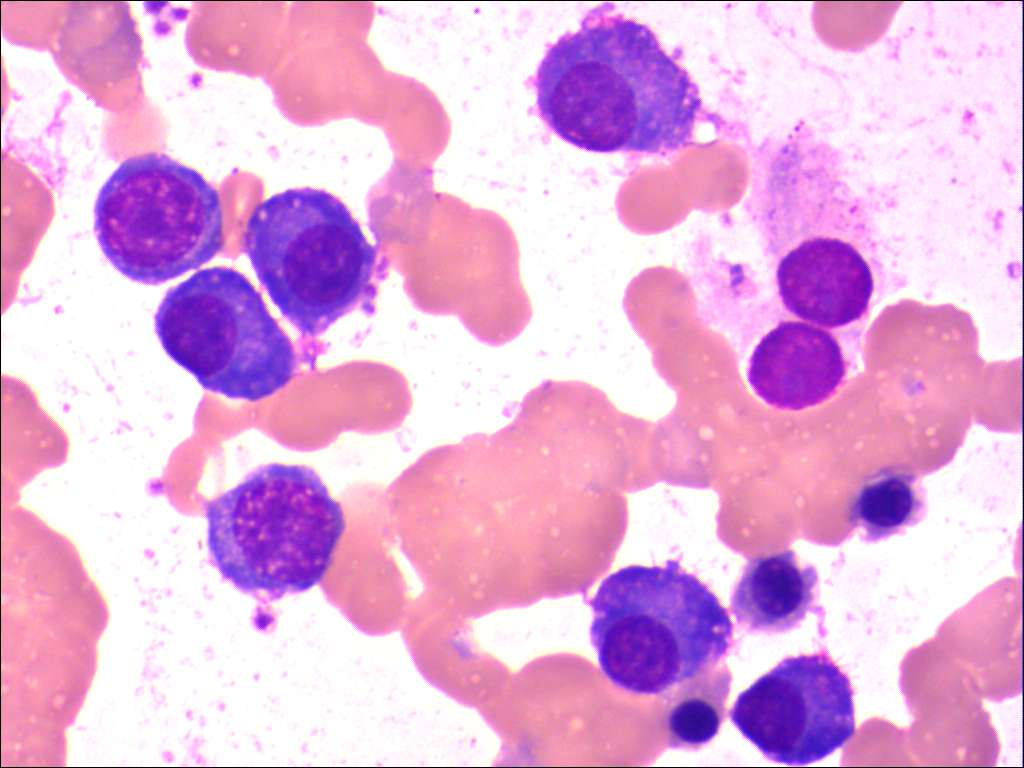22: (90, 148, 228, 288)
23: (200, 459, 347, 605)
24: (727, 547, 825, 636), (843, 462, 933, 546), (660, 659, 736, 753)
51: (531, 12, 704, 160), (150, 263, 301, 405), (240, 184, 379, 338), (728, 646, 859, 768)
52: (579, 557, 739, 697)
x: (742, 119, 908, 331), (733, 315, 856, 417)
